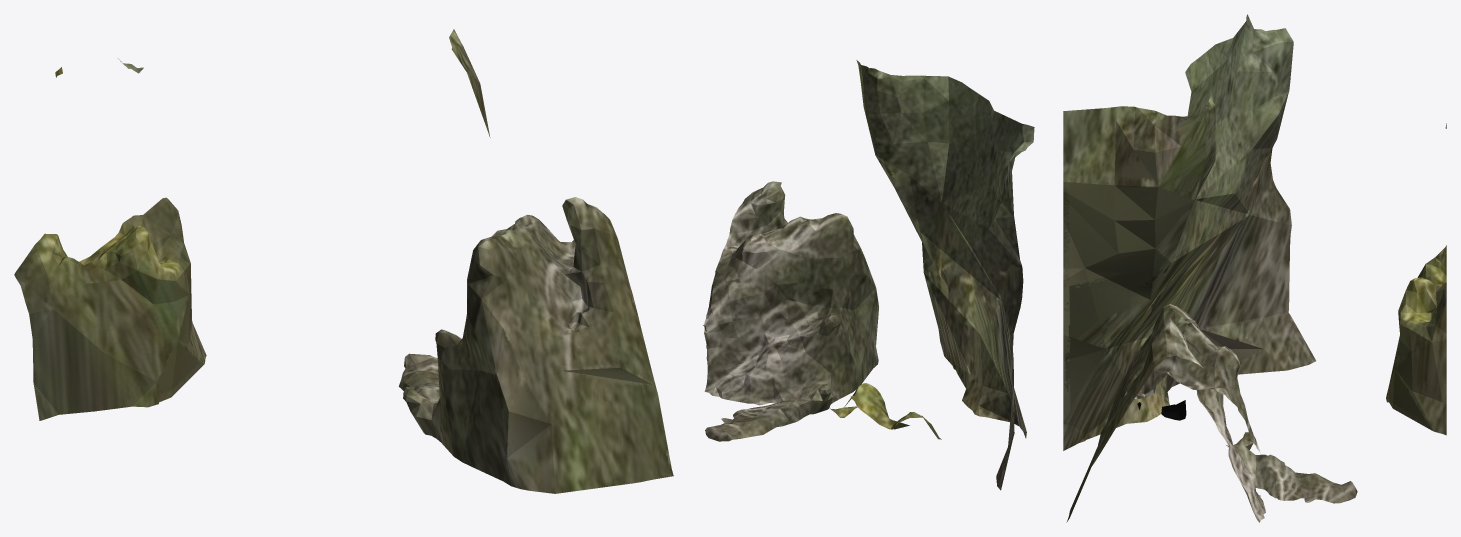
3 views of the same model, side by side, from view 1: azimuth 30°, elevation 25°; view 2: azimuth 150°, elevation 25°; view 3: azimuth 270°, elevation 25° (orthographic). The views are drawn at different scales.
Size of the model in its own units: 5.9 by 5.9 by 5.9.
3 materials, 3 textured.
